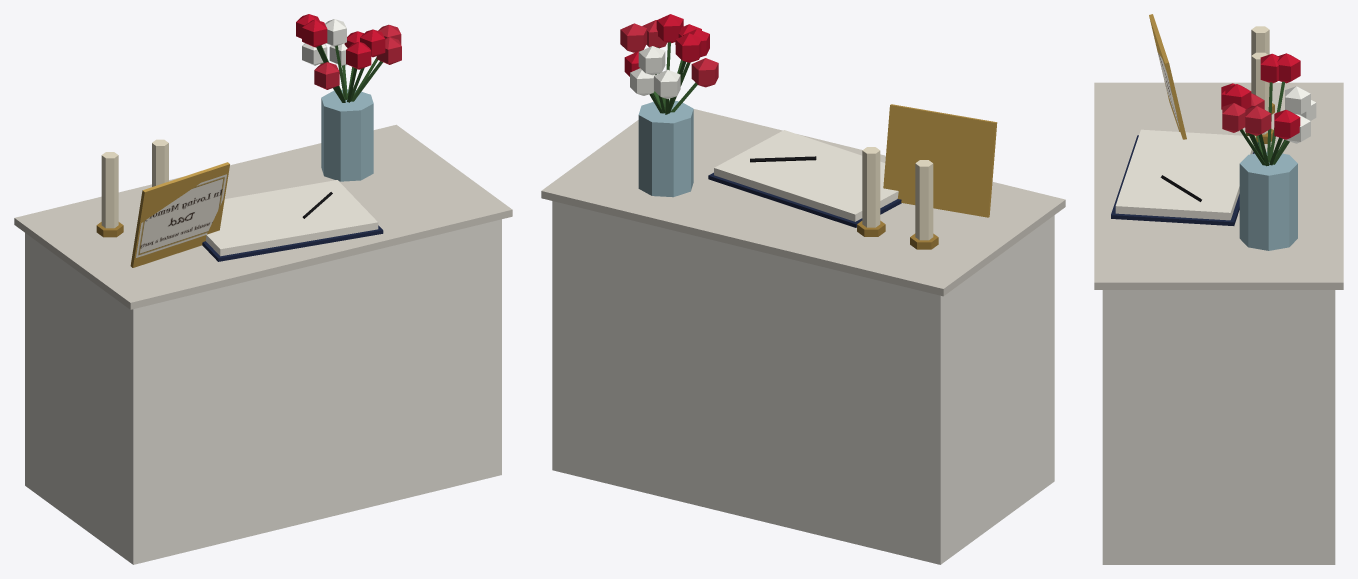
Rendered from MemorialTable.obj.
3 renders of one model, left to right at view 1: azimuth 30°, elevation 25°; view 2: azimuth 150°, elevation 25°; view 3: azimuth 270°, elevation 25°, orthographic. The views are drawn at different scales.
Parts seen in each view (by area): view 1: MemorialTable; view 2: MemorialTable; view 3: MemorialTable.
Boxes of the visible parts, x1,y1,x2,y2 form: MemorialTable: [14, 14, 512, 564]; MemorialTable: [541, 14, 1065, 564]; MemorialTable: [1094, 14, 1343, 564].
Bounding box in the file's own units: 1.14 × 1.21 × 0.6.
2 materials, 2 textured.
